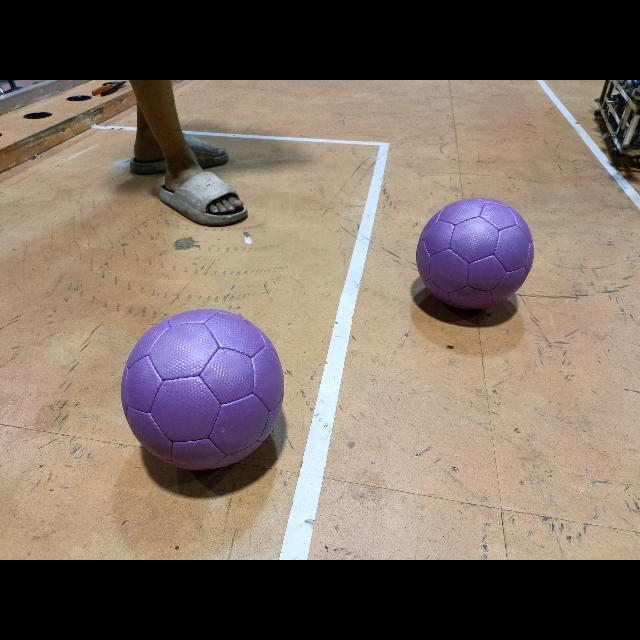P: (121, 309, 285, 471), (416, 198, 534, 310)
